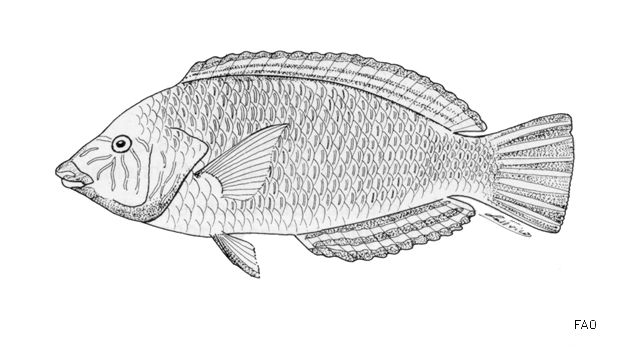fish: (54, 52, 576, 280)
